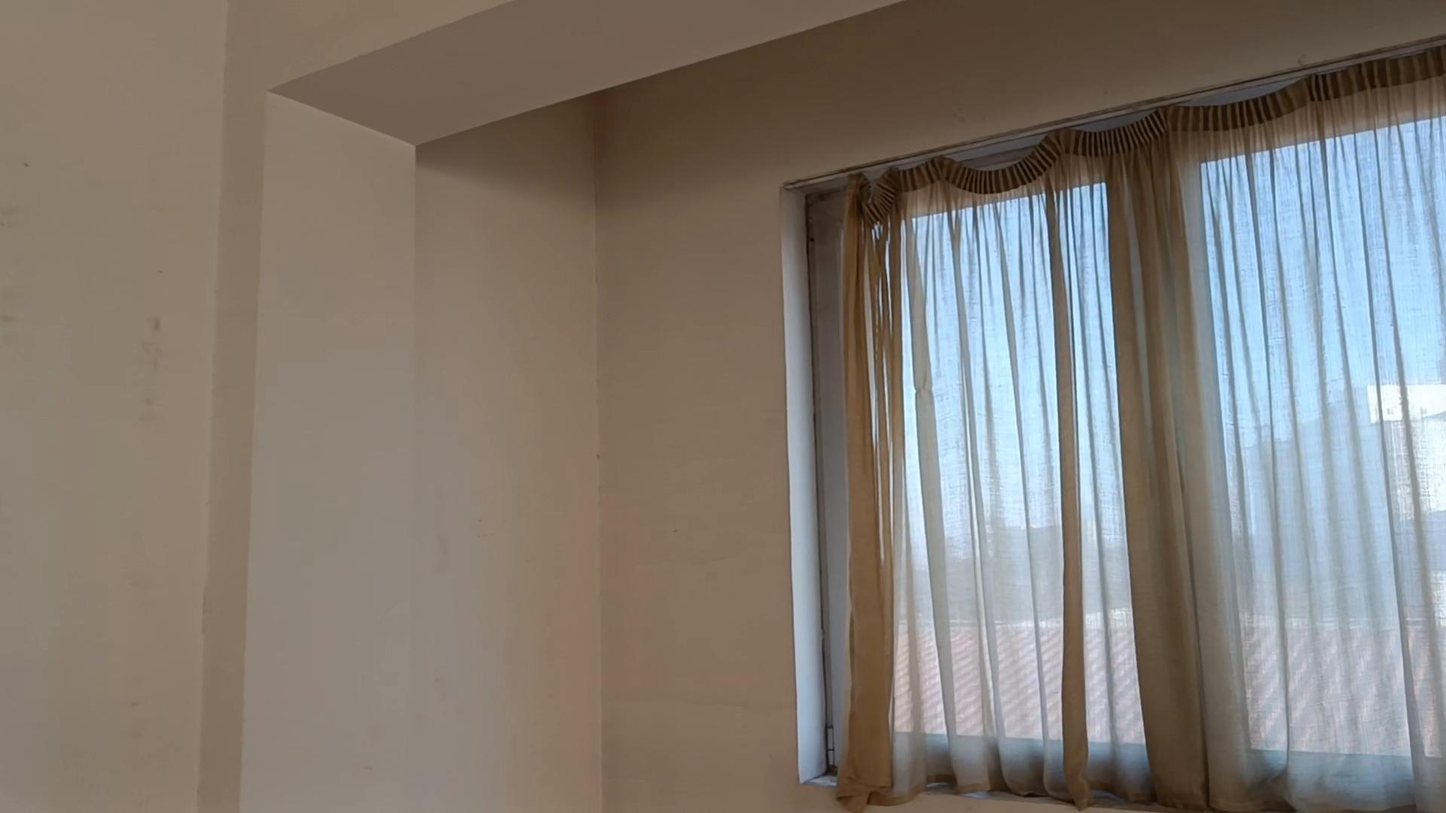ceiling: (273, 0, 898, 145), (272, 0, 895, 145)
wall: (594, 0, 1445, 809), (3, 0, 483, 812), (240, 100, 601, 812)
